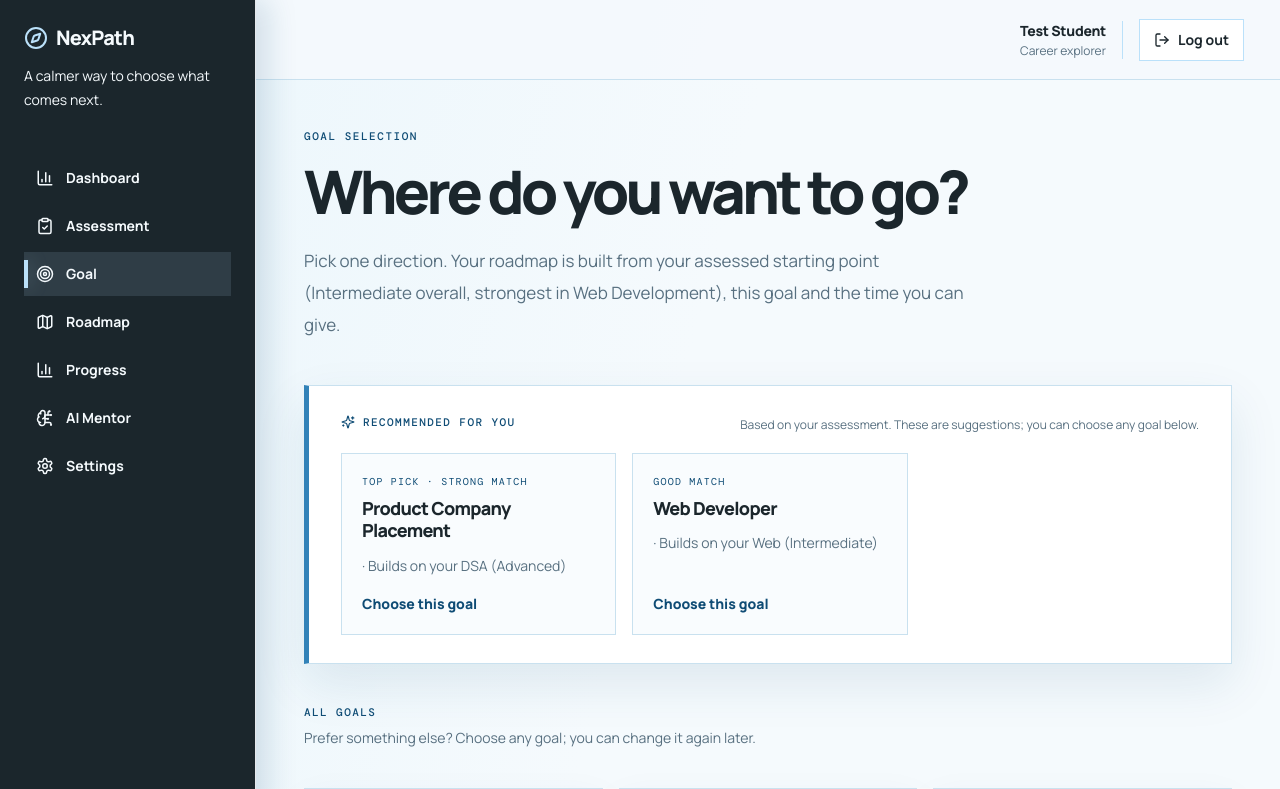
Test: goal page › a recommendation pre-fills its goal and suggested sub-track
The image size is (1280, 789).
Click the button "Choose this goal" below "Builds on your Web (Intermediate)" at (711, 596), box [653, 578, 768, 614]
(page scrolled)
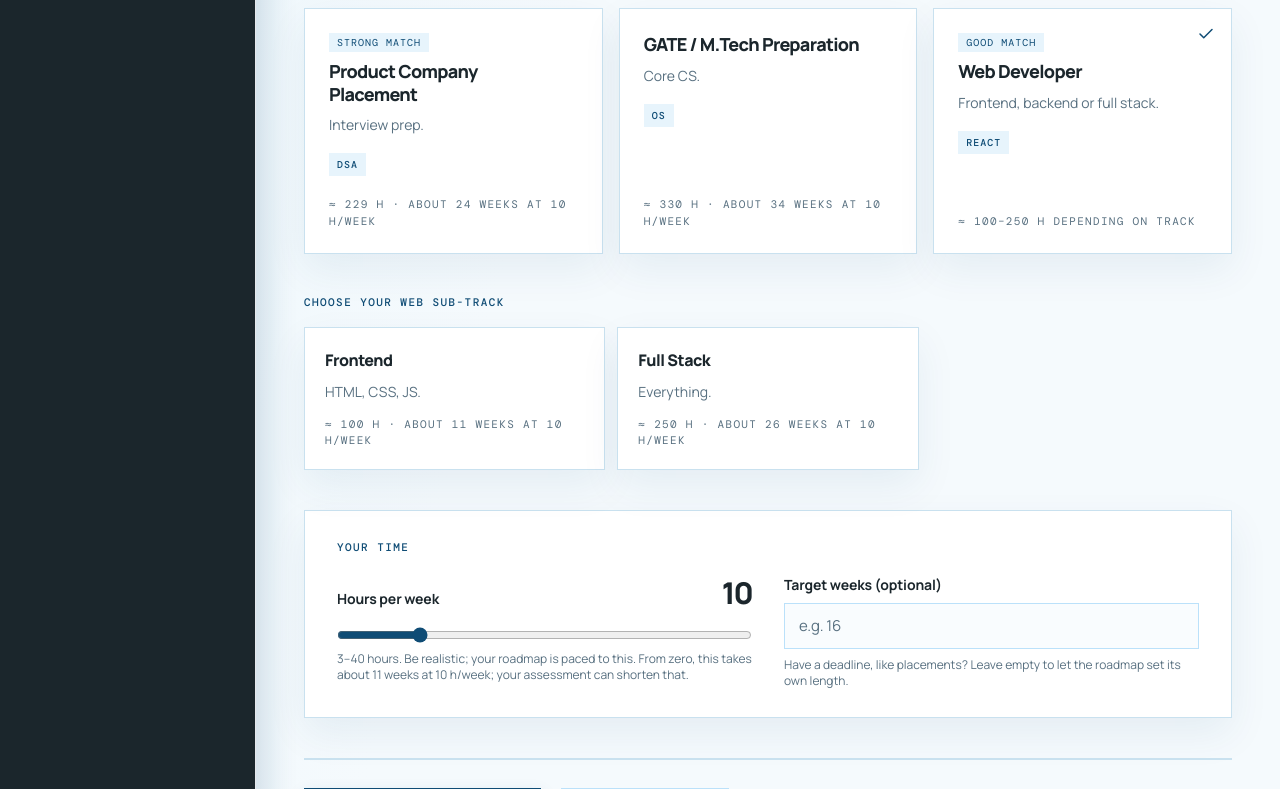
Check: the radio button labelled "Frontend" is checked, box [304, 327, 605, 470]
Check: the text with id "hours-help" shows "about 11 weeks at 10 h/week", box [337, 650, 752, 683]
